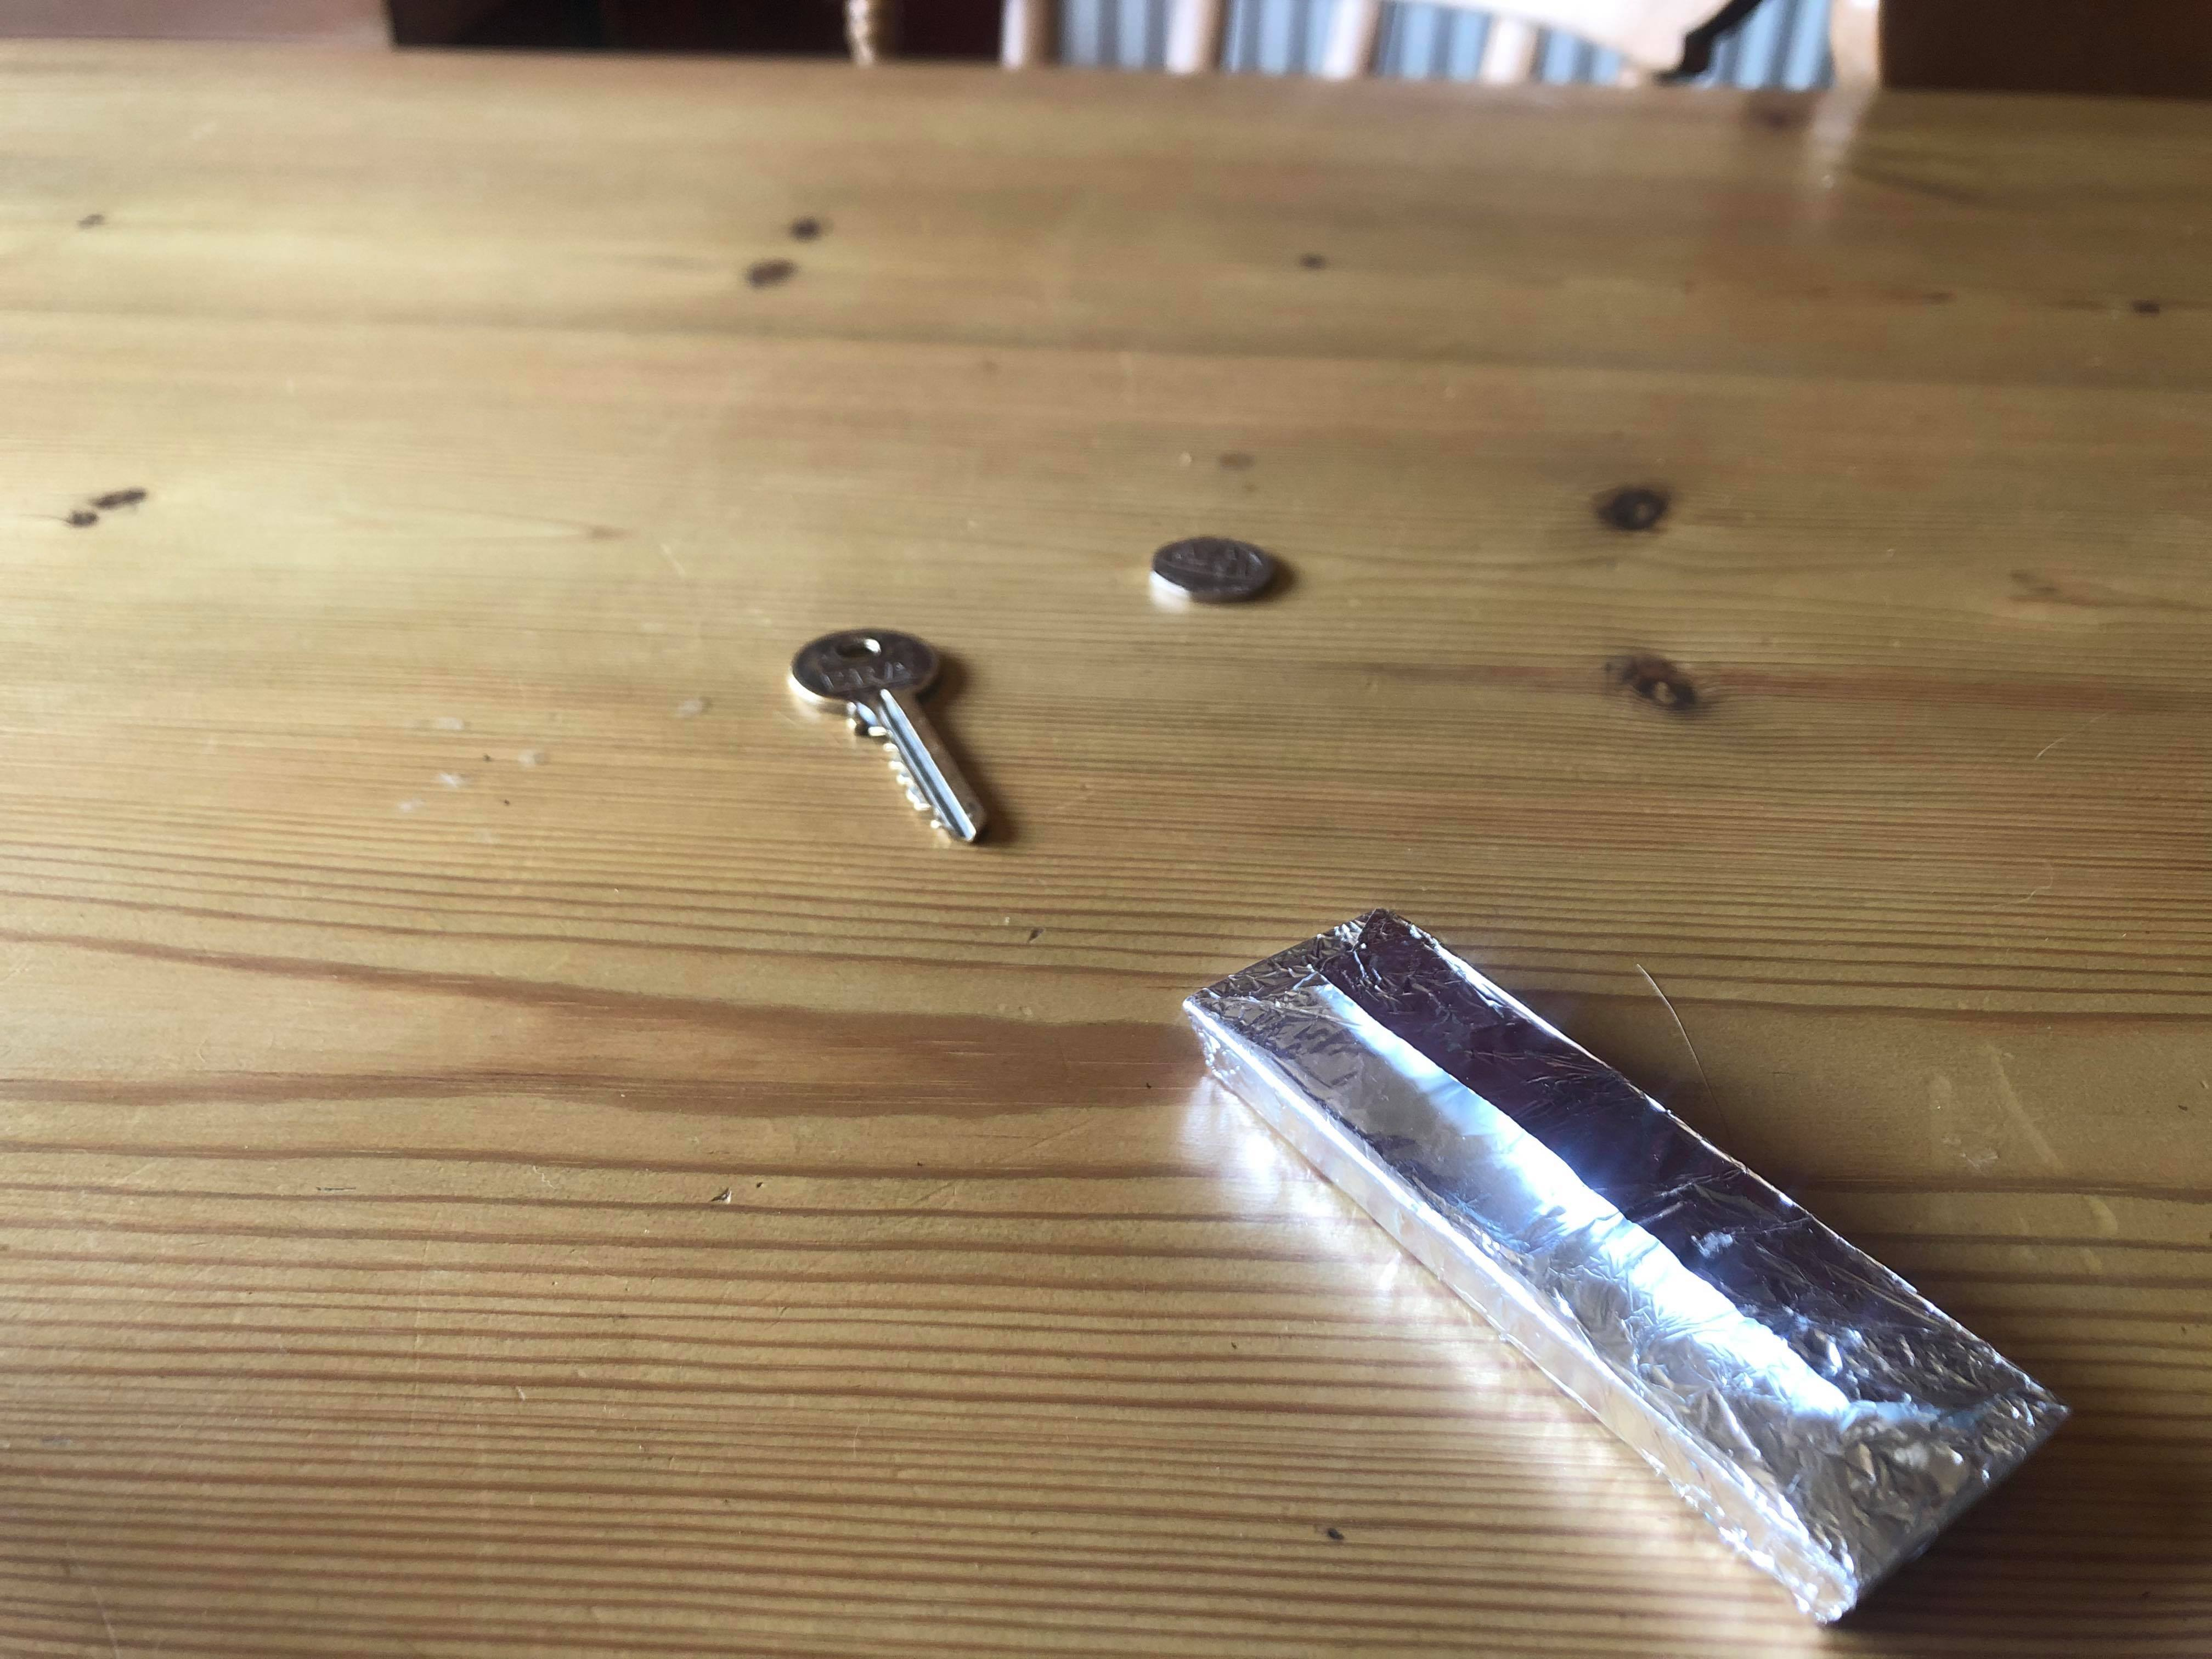Coin: (1141, 533, 1284, 610)
Foil: (1157, 904, 2090, 1636)
Key: (777, 629, 991, 861)
